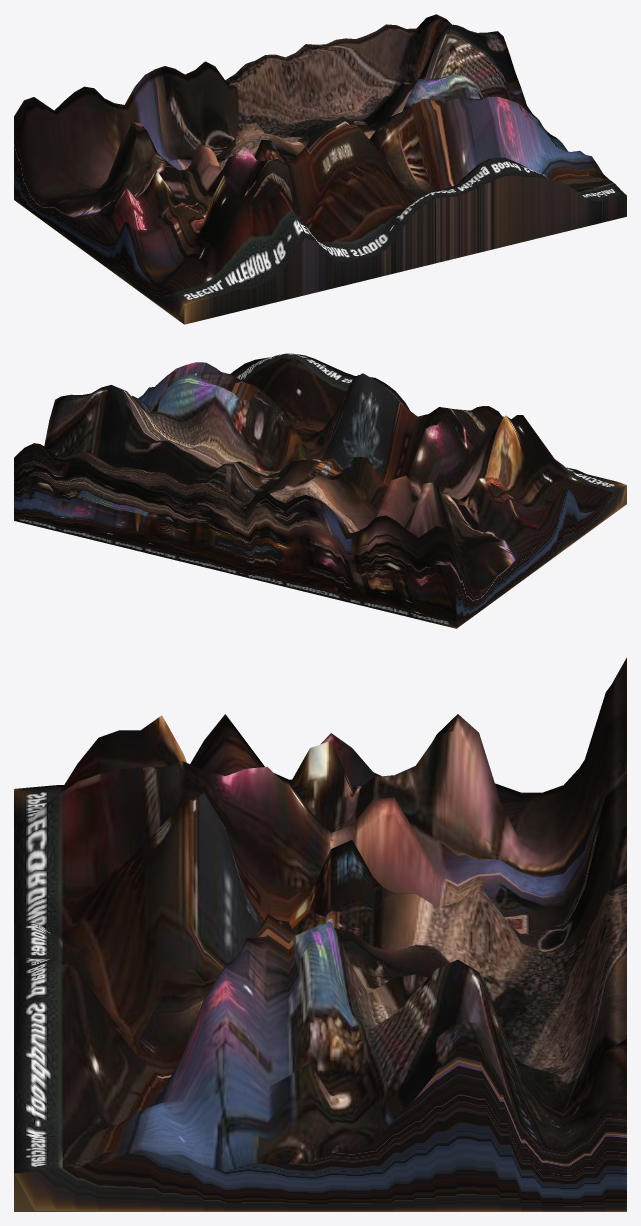
The model's file is SPECIAL_INT_18_Recording_Studio.glb.
The picture shows the model from 3 angles, top to bottom: view 1: azimuth 30°, elevation 25°; view 2: azimuth 150°, elevation 25°; view 3: azimuth 270°, elevation 25°; orthographic projection. The views are drawn at different scales.
Parts seen in each view (by area): view 1: SPECIAL_INT_18_Recording_Studio; view 2: SPECIAL_INT_18_Recording_Studio; view 3: SPECIAL_INT_18_Recording_Studio.
Boxes of the visible parts, bbox=[...] form: SPECIAL_INT_18_Recording_Studio: bbox=[14, 14, 626, 324]; SPECIAL_INT_18_Recording_Studio: bbox=[14, 353, 626, 628]; SPECIAL_INT_18_Recording_Studio: bbox=[14, 657, 626, 1211].
Bounding box in the file's own units: 2 × 0.51 × 1.33.
1 material, 1 textured.
